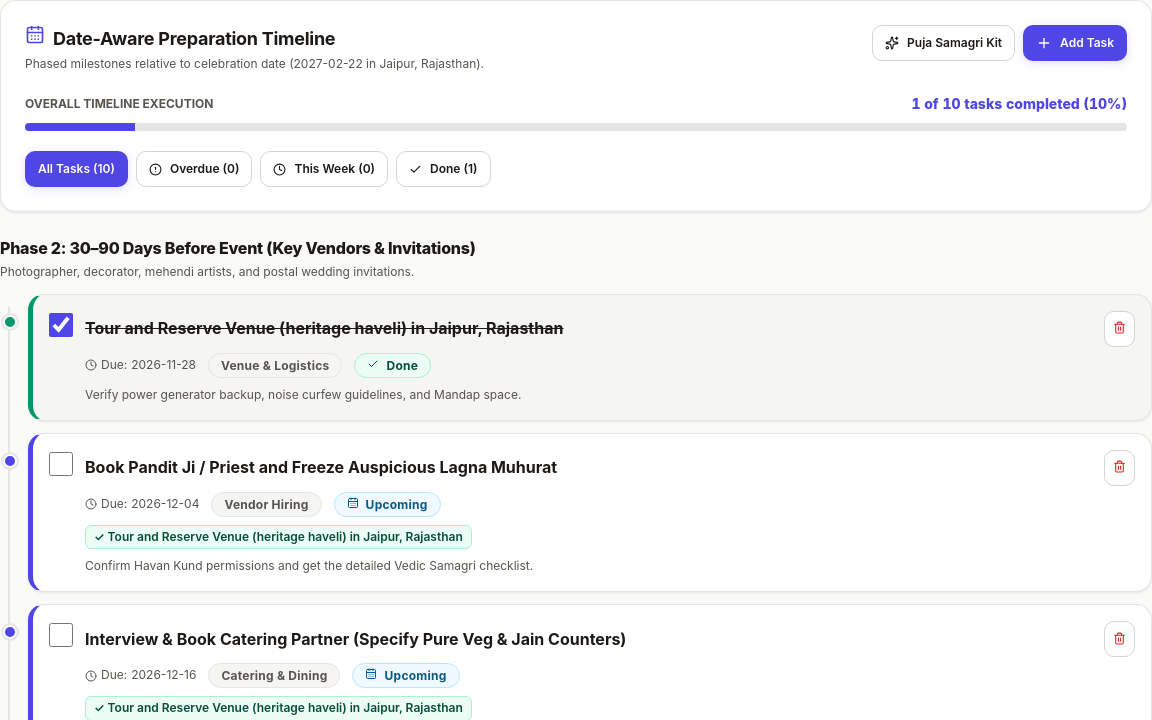
Pro Features Upgrade Suite › TimelineManager Vedic Samagri Kit › opens Vedic Ritual & Puja Samagri Kit modal and toggles procurement checklist items
The width and height of the screenshot is (1152, 720).
Click the button "Puja Samagri Kit".
click(944, 43)  # box [872,25,1015,61]
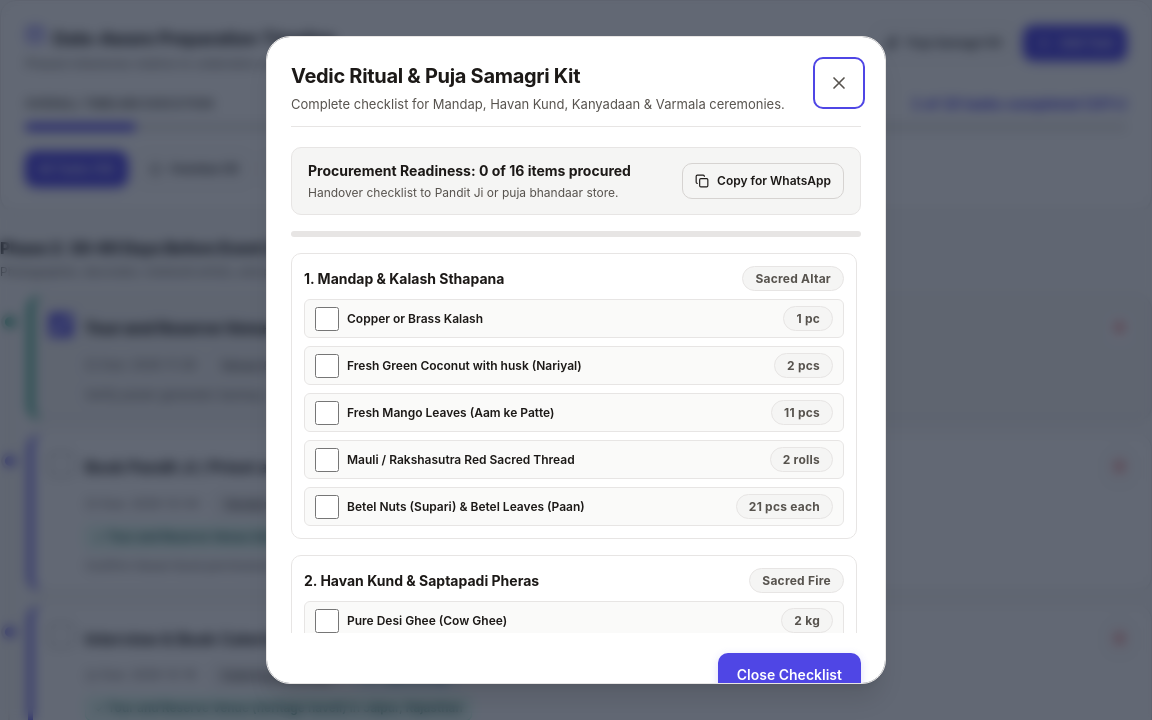
Check: the heading "Vedic Ritual & Puja Samagri Kit" is shown, box [291,64,580,88]
Check: the heading "1. Mandap & Kalash Sthapana" is shown, box [304,268,504,290]
Check: the text "Pure Desi Ghee (Cow Ghee)" is shown, box [347,612,507,630]
